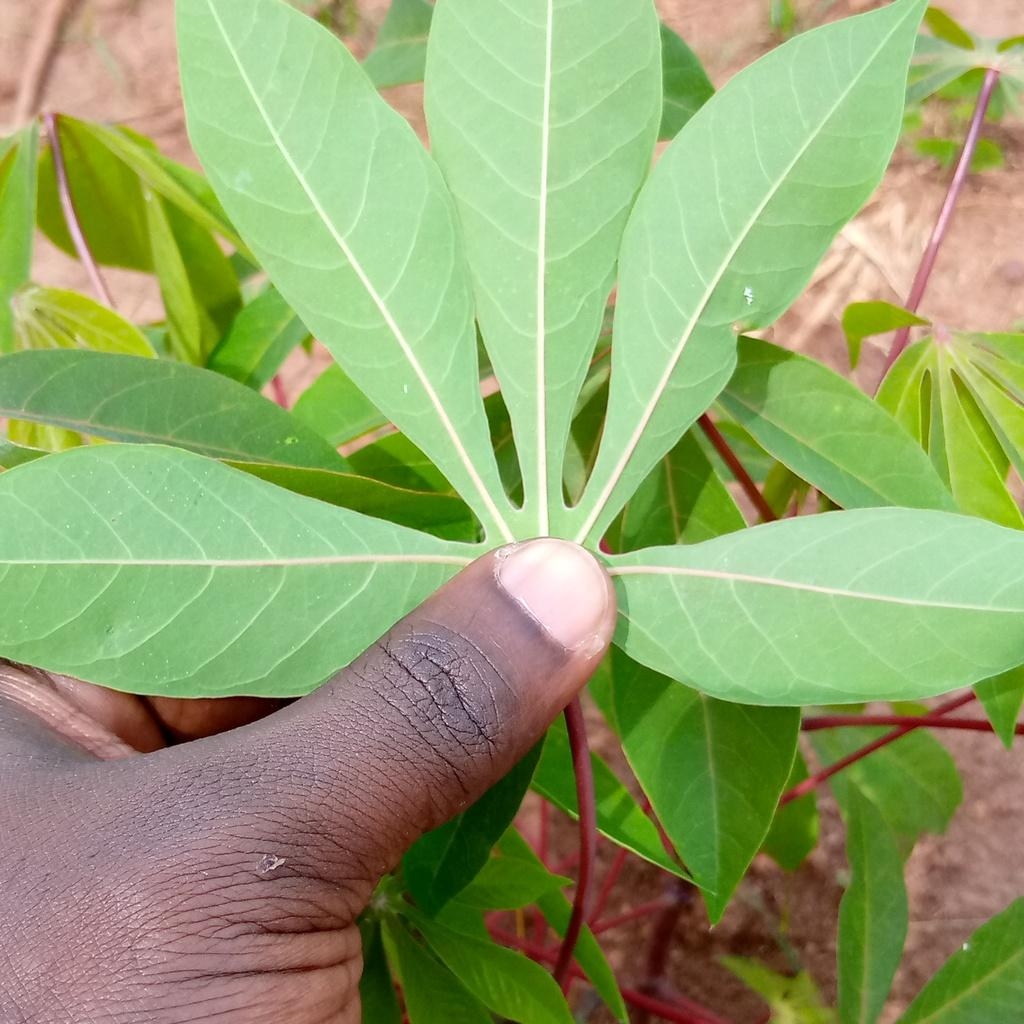adult: (743, 287, 753, 297), (403, 384, 409, 394), (746, 298, 753, 305)
